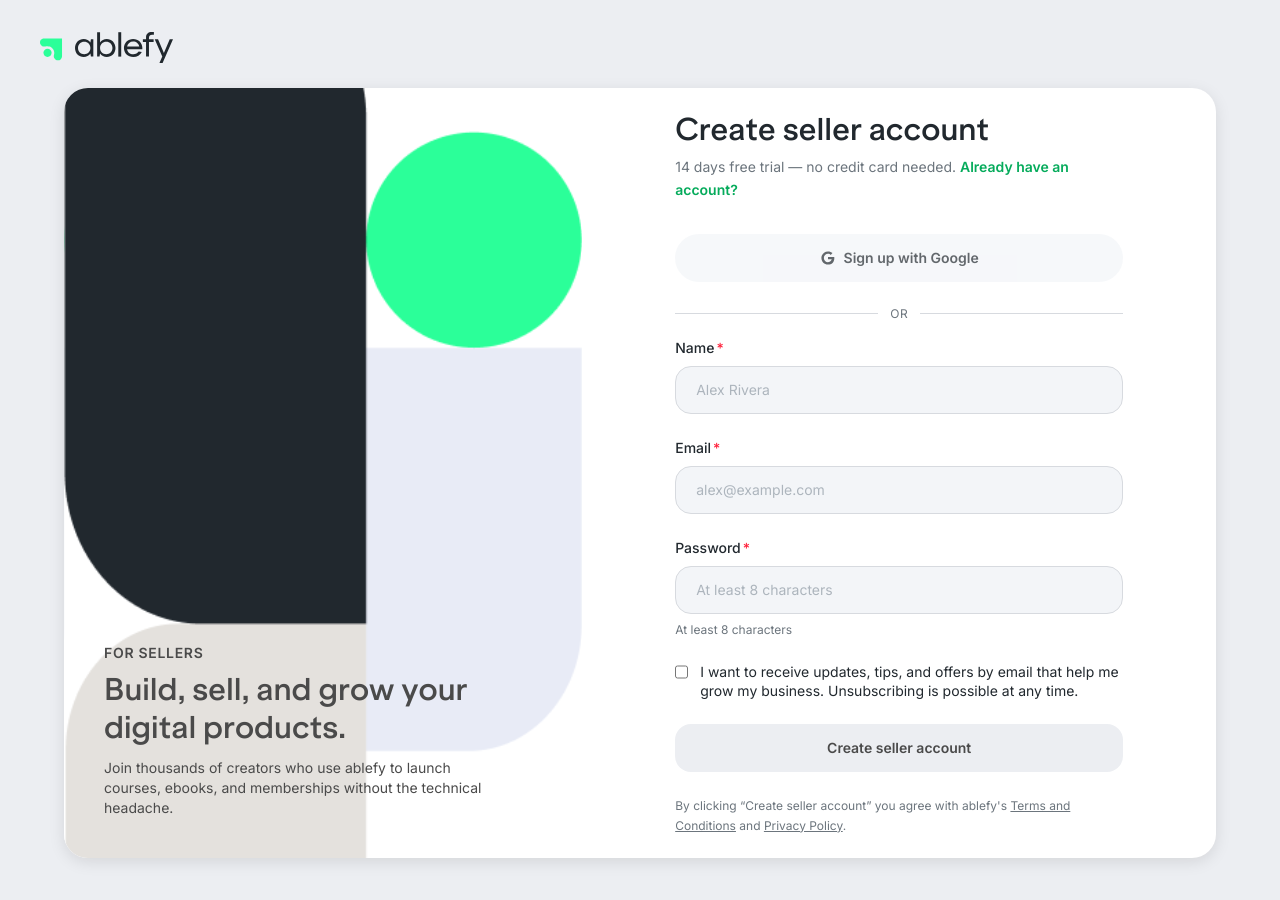
Scenario: Signup › shows server error on 409 duplicate email
Step 1. Type "Alex" into the field labelled "Name*" → [899, 390], box [675,366,1123,414]
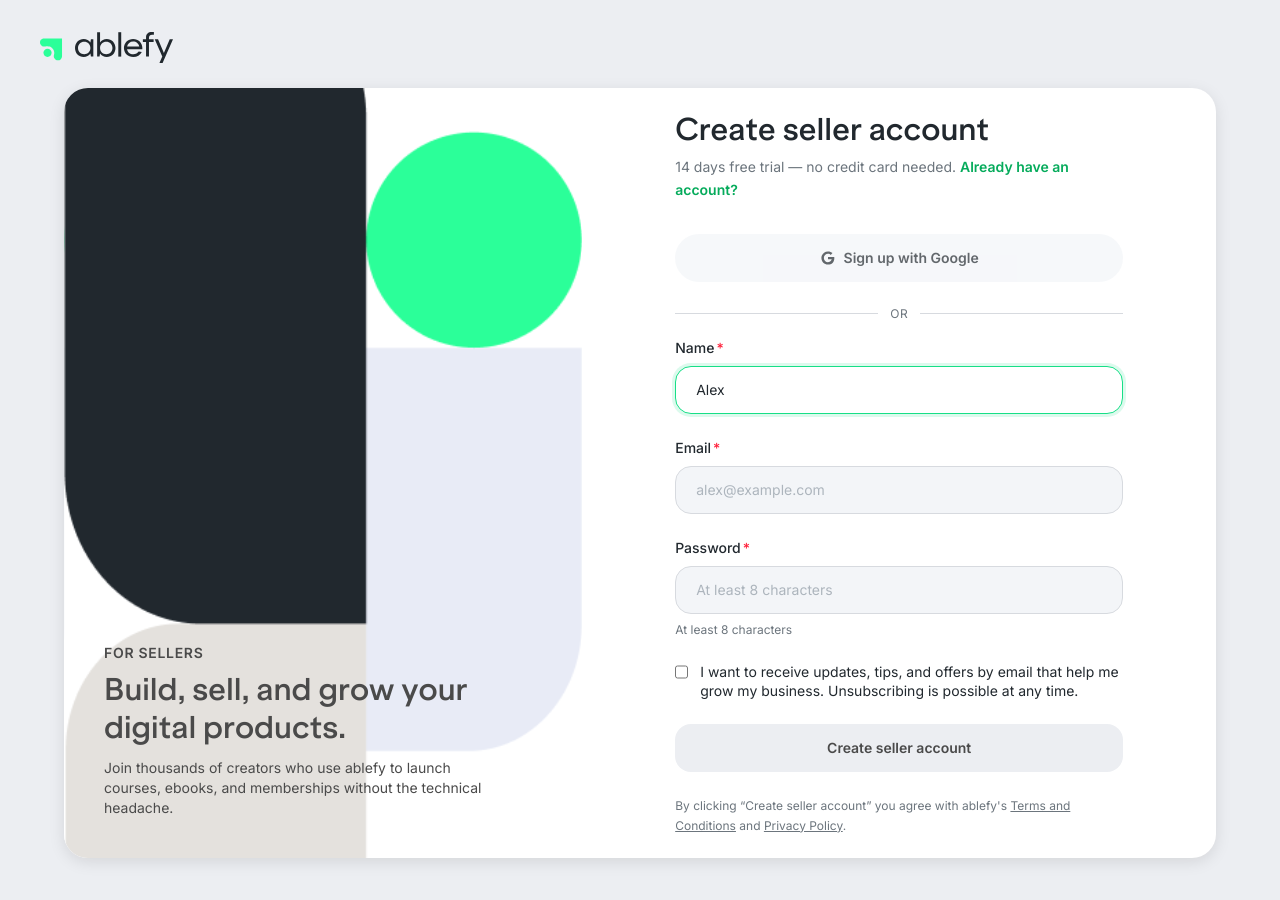
Step 2. Type "dup@example.com" into the field labelled "Email*" → [899, 490], box [675,466,1123,514]
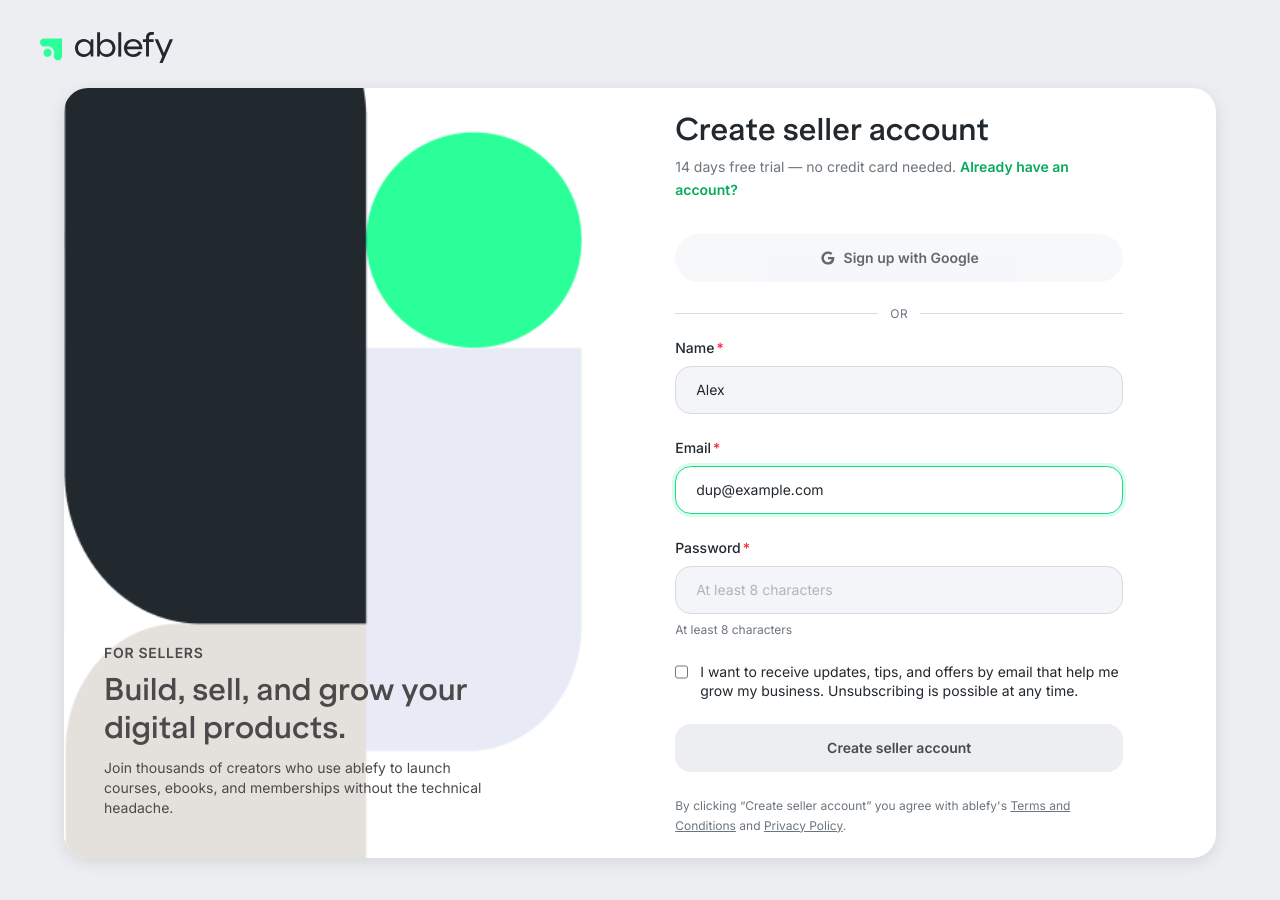
Step 3. Type "correcthorse" into the password field labelled "Password*" → [899, 590], box [675,566,1123,614]
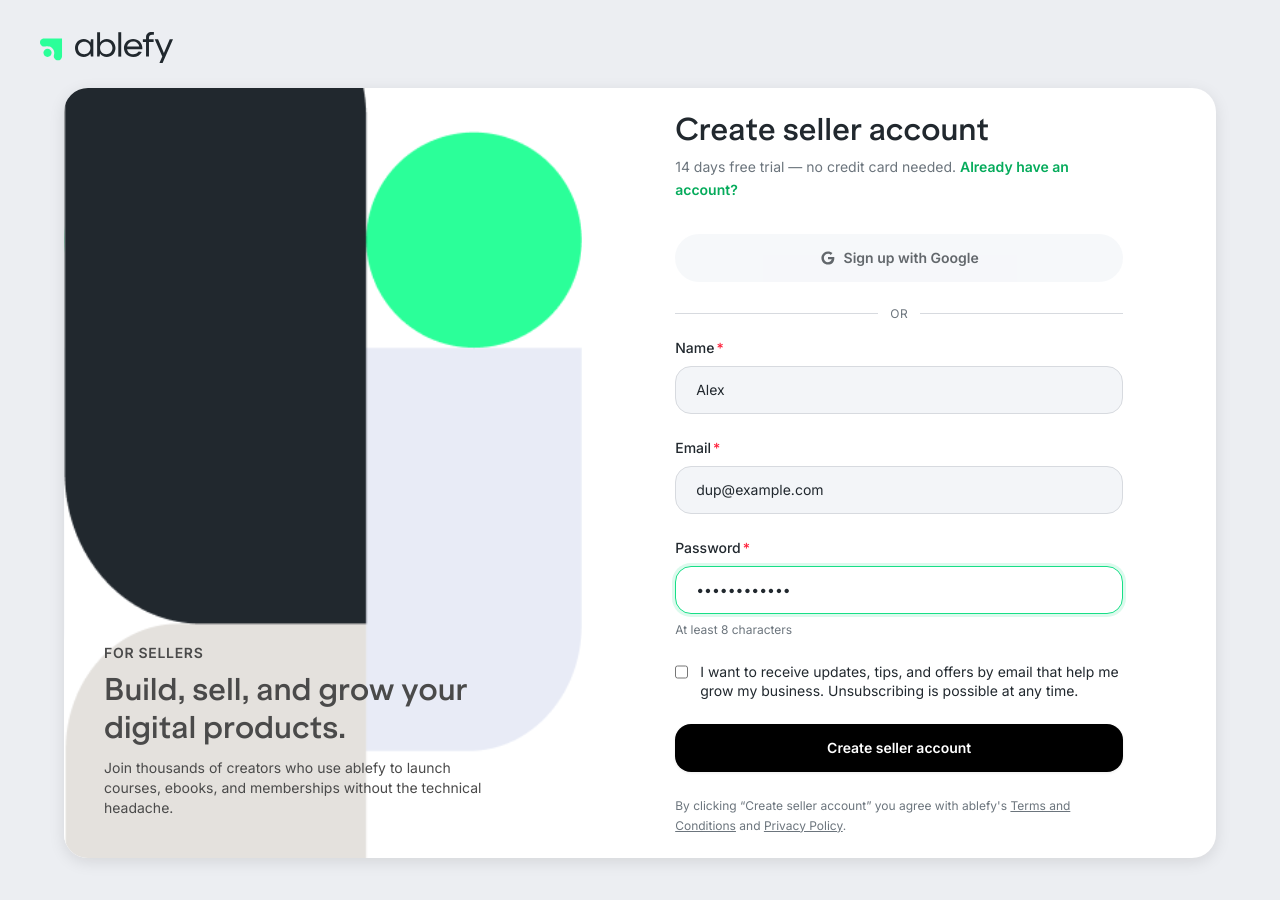
Step 4. Click the button "Create seller account" → [899, 748], box [675,724,1123,772]
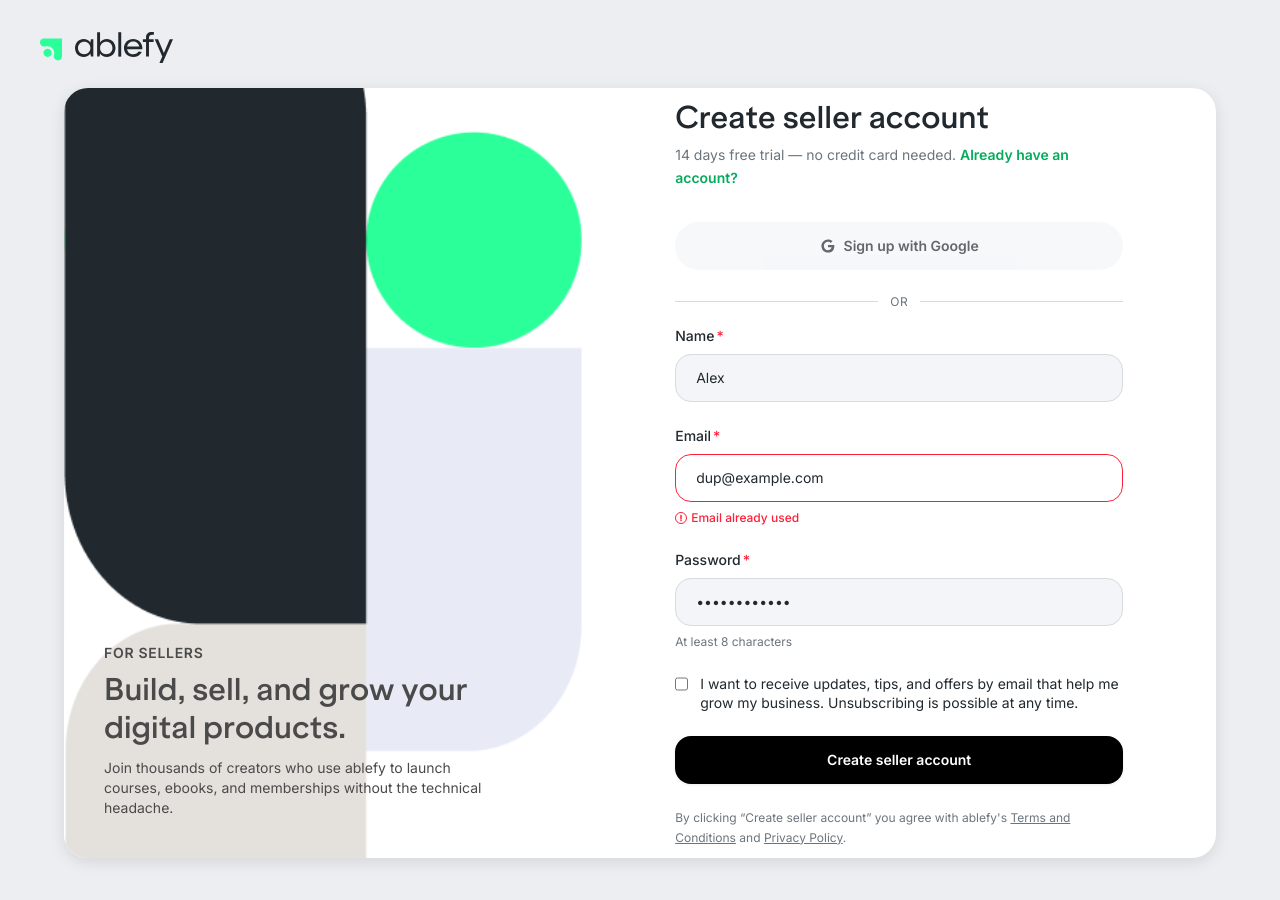
Now the text "Email already used" is shown, box [675,510,799,525]
